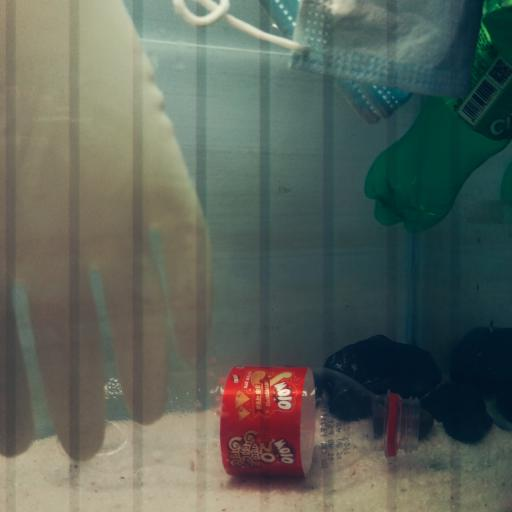glove: (2, 1, 211, 464)
mask: (174, 0, 480, 125)
plastic_bottle: (99, 362, 425, 480), (363, 9, 512, 235)
